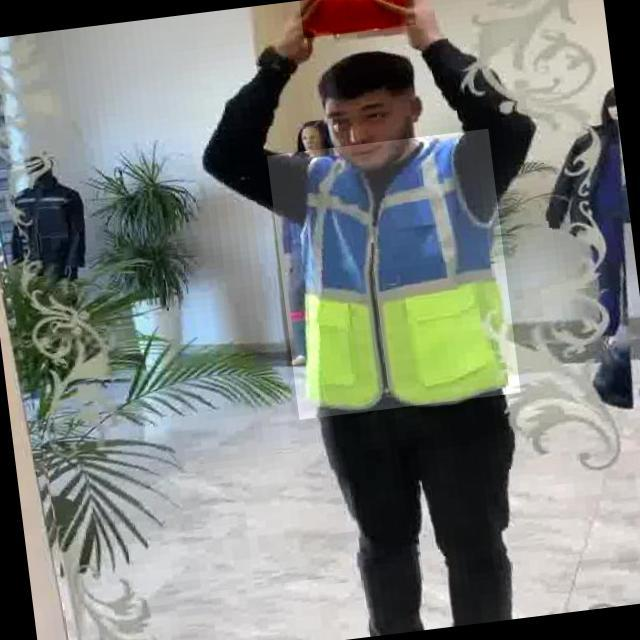Helmet: (299, 0, 416, 38)
Safety Vest: (267, 128, 522, 419)
